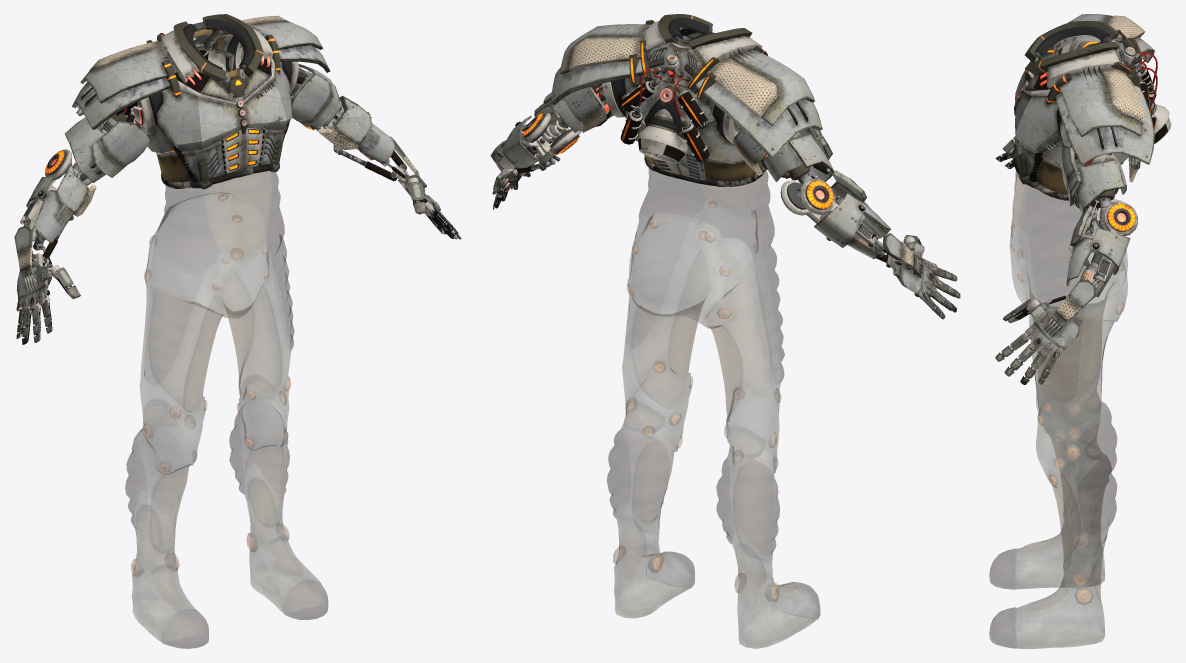
The model's file is sci-fi_armor.glb.
The picture shows the model from 3 angles, left to right: view 1: azimuth 30°, elevation 25°; view 2: azimuth 150°, elevation 25°; view 3: azimuth 270°, elevation 25°; orthographic projection. The views are drawn at different scales.
Parts seen in each view (by area): view 1: Head_Body, Armor; view 2: Head_Body, Armor; view 3: Head_Body, Armor.
Part boxes in pixels (x1,y1,x2,y2): Head_Body: (125,171,327,648); Armor: (14,14,461,344); Head_Body: (607,168,820,648); Armor: (490,14,960,319); Head_Body: (989,171,1127,648); Armor: (995,14,1171,384).
Bounding box in the file's own units: 1.41 × 1.78 × 0.5097.
2 materials, 2 textured.
